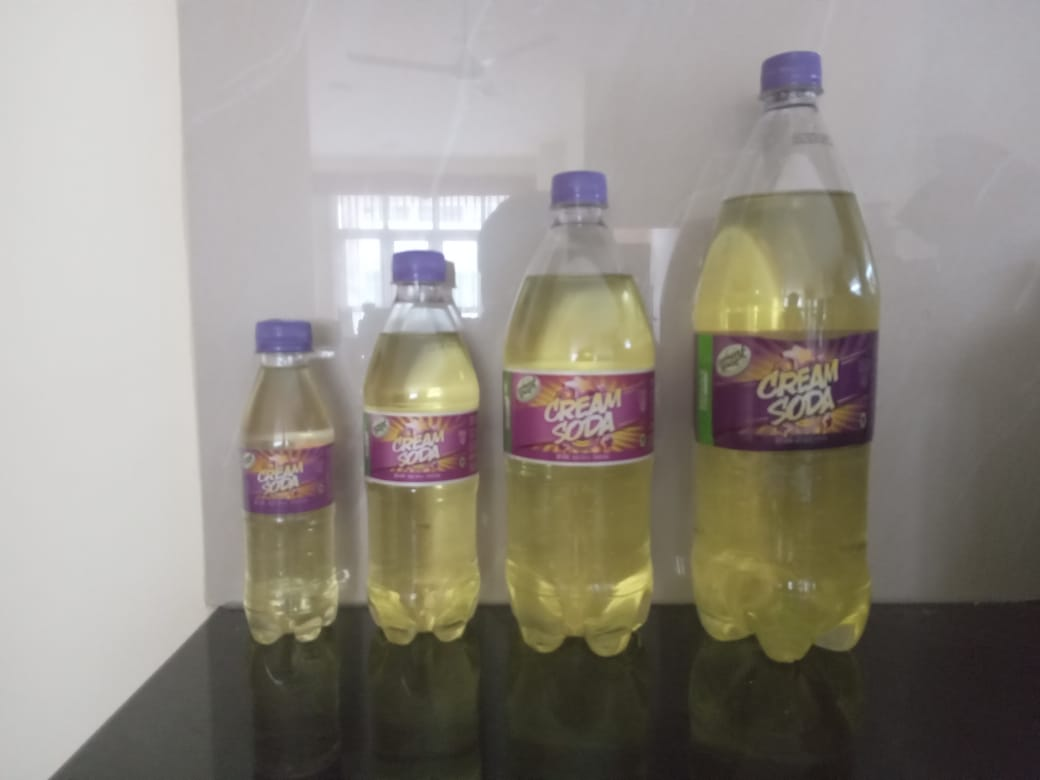L: (677, 50, 888, 674)
M: (501, 172, 667, 673)
S: (356, 248, 484, 654)
Xs: (229, 314, 341, 651)
